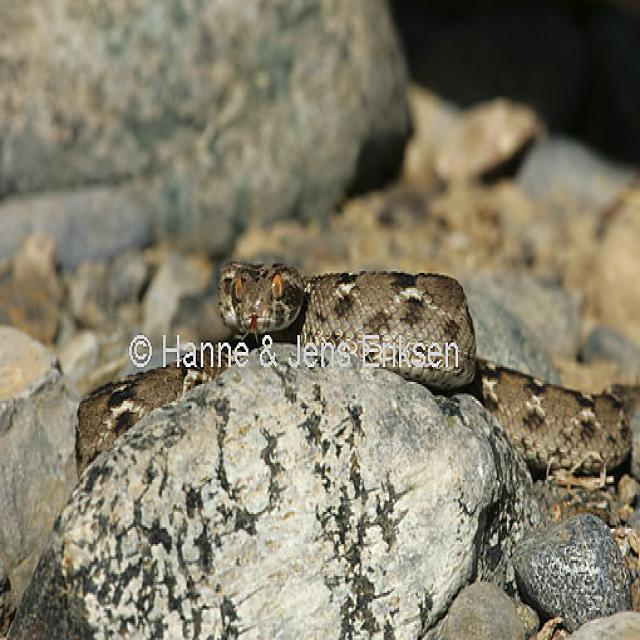Snake: (72, 257, 636, 483)
